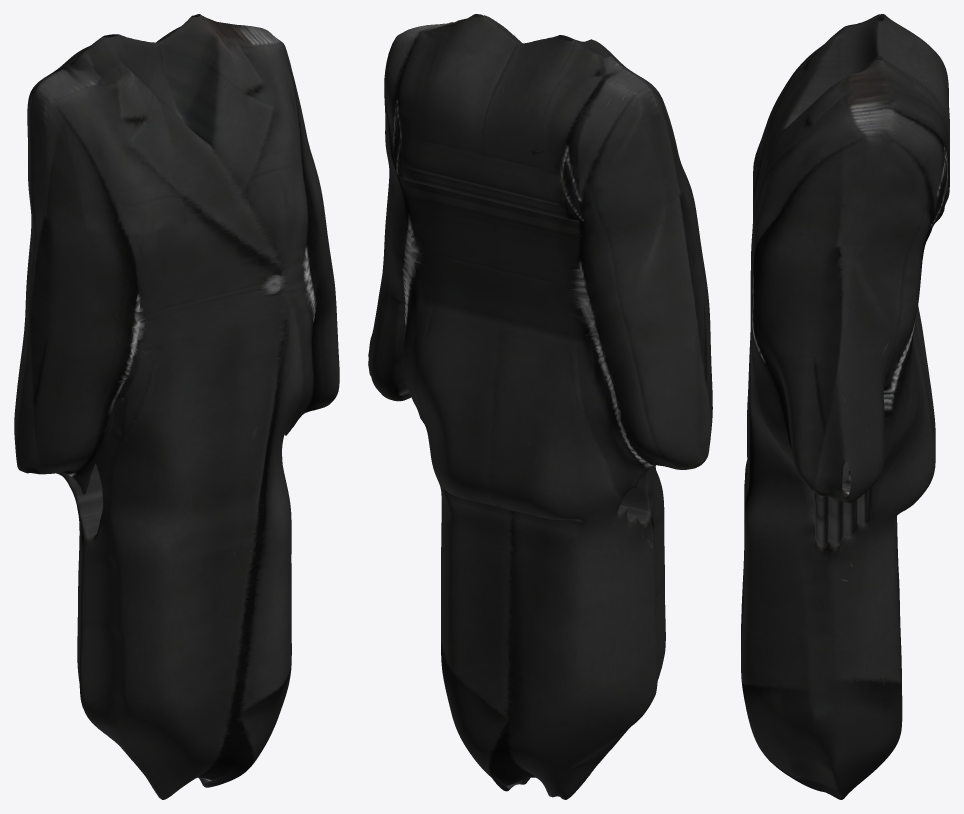
Rendered from NF003-worn-v3.glb.
The picture shows the model from 3 angles, left to right: view 1: azimuth 30°, elevation 25°; view 2: azimuth 150°, elevation 25°; view 3: azimuth 270°, elevation 25°; orthographic projection. The views are drawn at different scales.
Visible parts, largest first — view 1: NF003_worn_photo_fitted; view 2: NF003_worn_photo_fitted; view 3: NF003_worn_photo_fitted.
Part boxes in pixels (x1,y1,x2,y2): NF003_worn_photo_fitted: [14, 14, 339, 799]; NF003_worn_photo_fitted: [368, 14, 712, 799]; NF003_worn_photo_fitted: [741, 14, 949, 799].
Size of the model in its own units: 0.5078 by 1.16 by 0.2939.
1 material, 1 textured.
